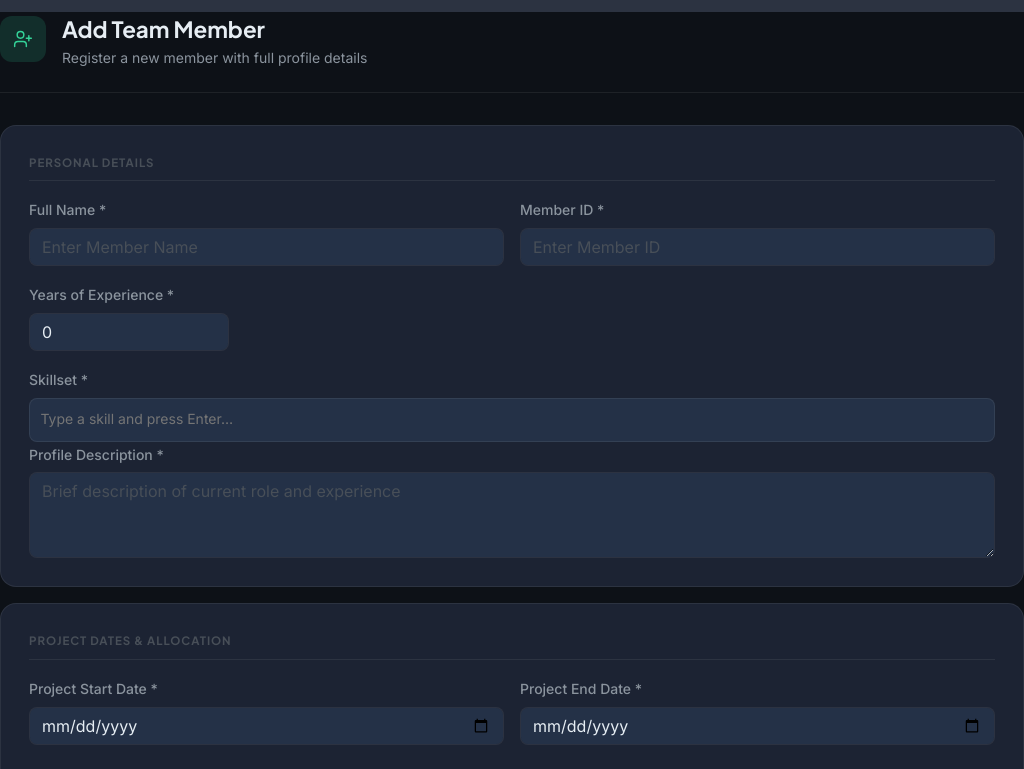
Test case: AddMemberPage › should show error for project end date before start date
The image size is (1024, 769).
In the date field labelled "Project Start Date *": (266, 726) [29,707,504,745], type "2025-06-01"
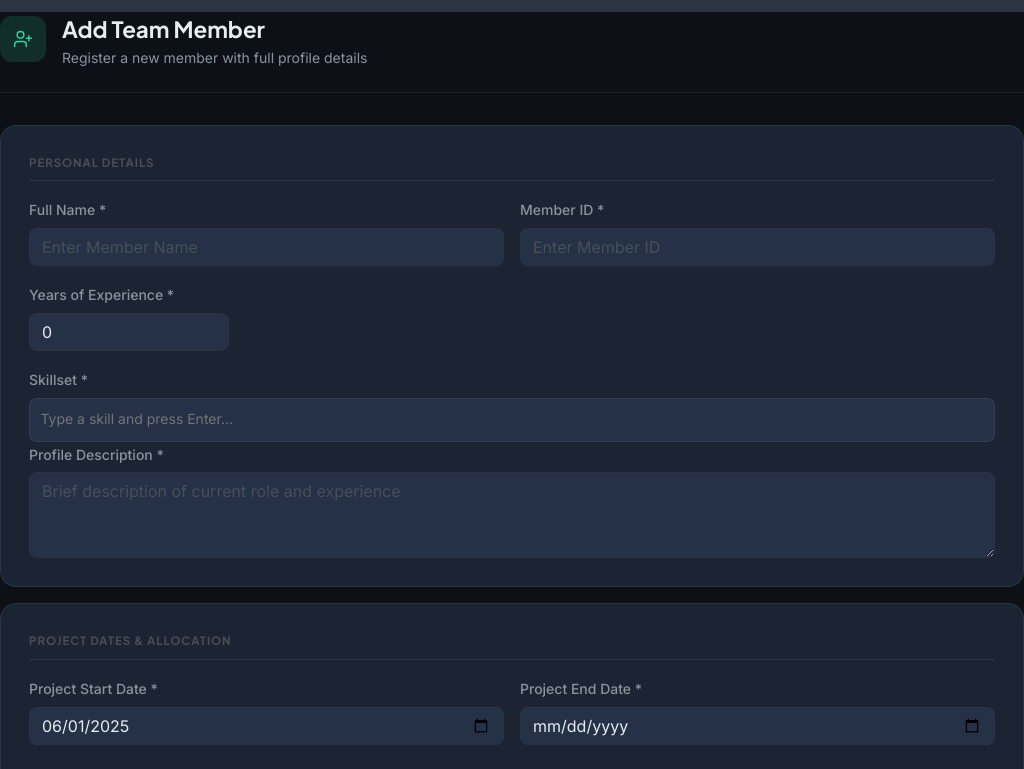
In the date field labelled "Project End Date *": (758, 726) [520,707,995,745], type "2024-01-01"
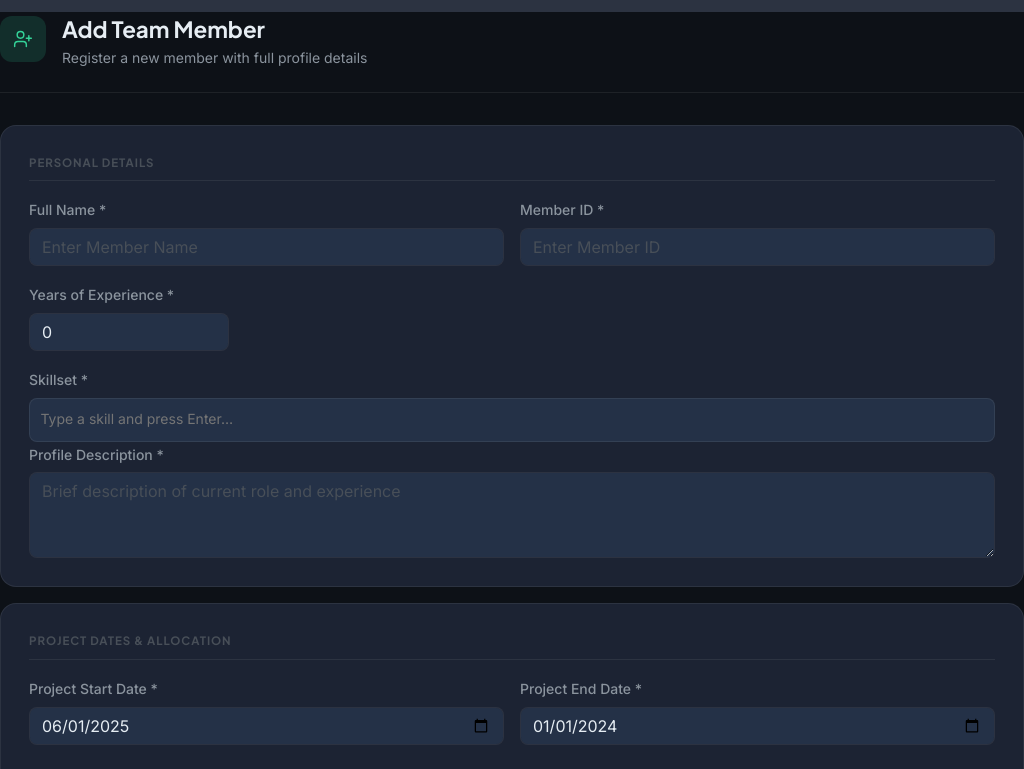
Leave the date field labelled "Project End Date *", box [520,707,995,745]
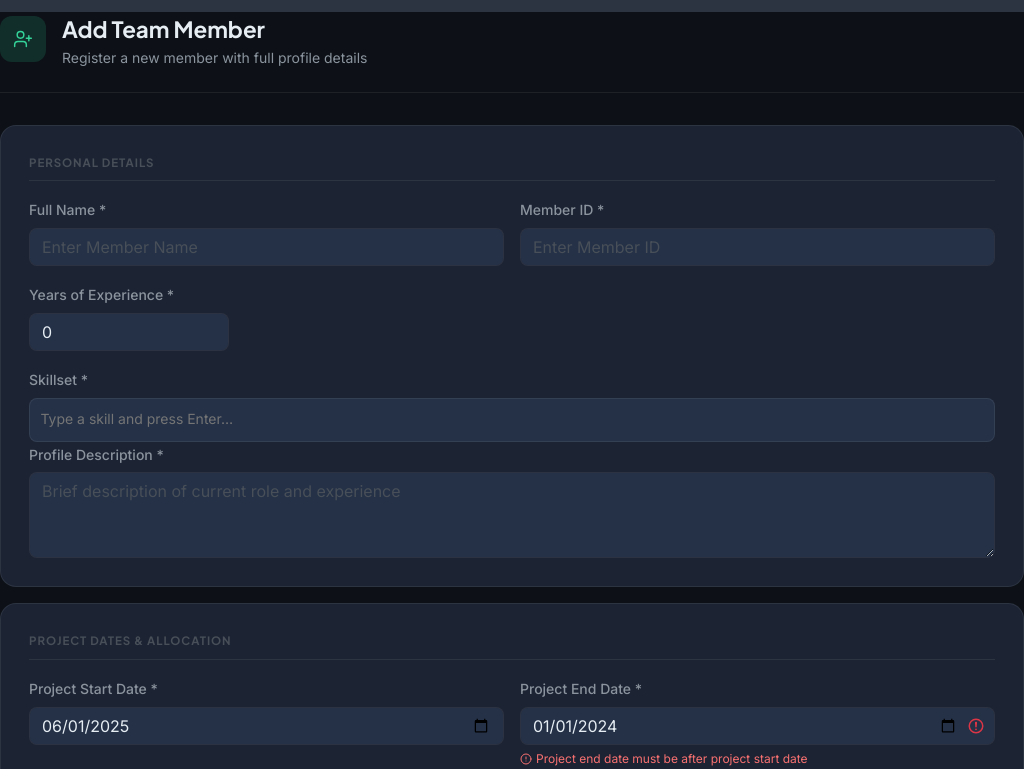
Result: the text "Project end date must be after project start date" is shown at [520,751,808,766]
